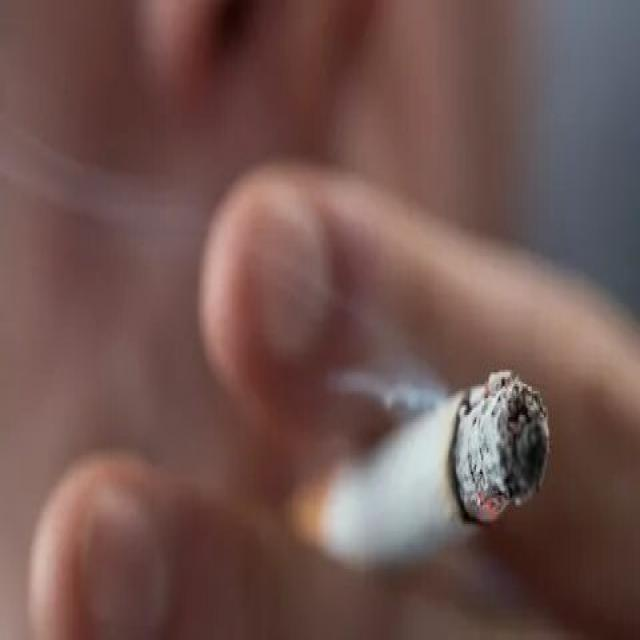cigarette: (283, 351, 568, 578)
